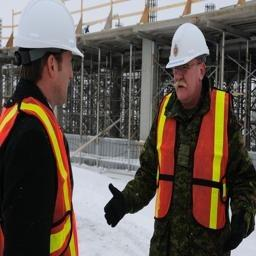hat: (9, 1, 98, 75), (148, 14, 222, 80)
vest: (147, 84, 245, 236), (1, 88, 87, 256)
